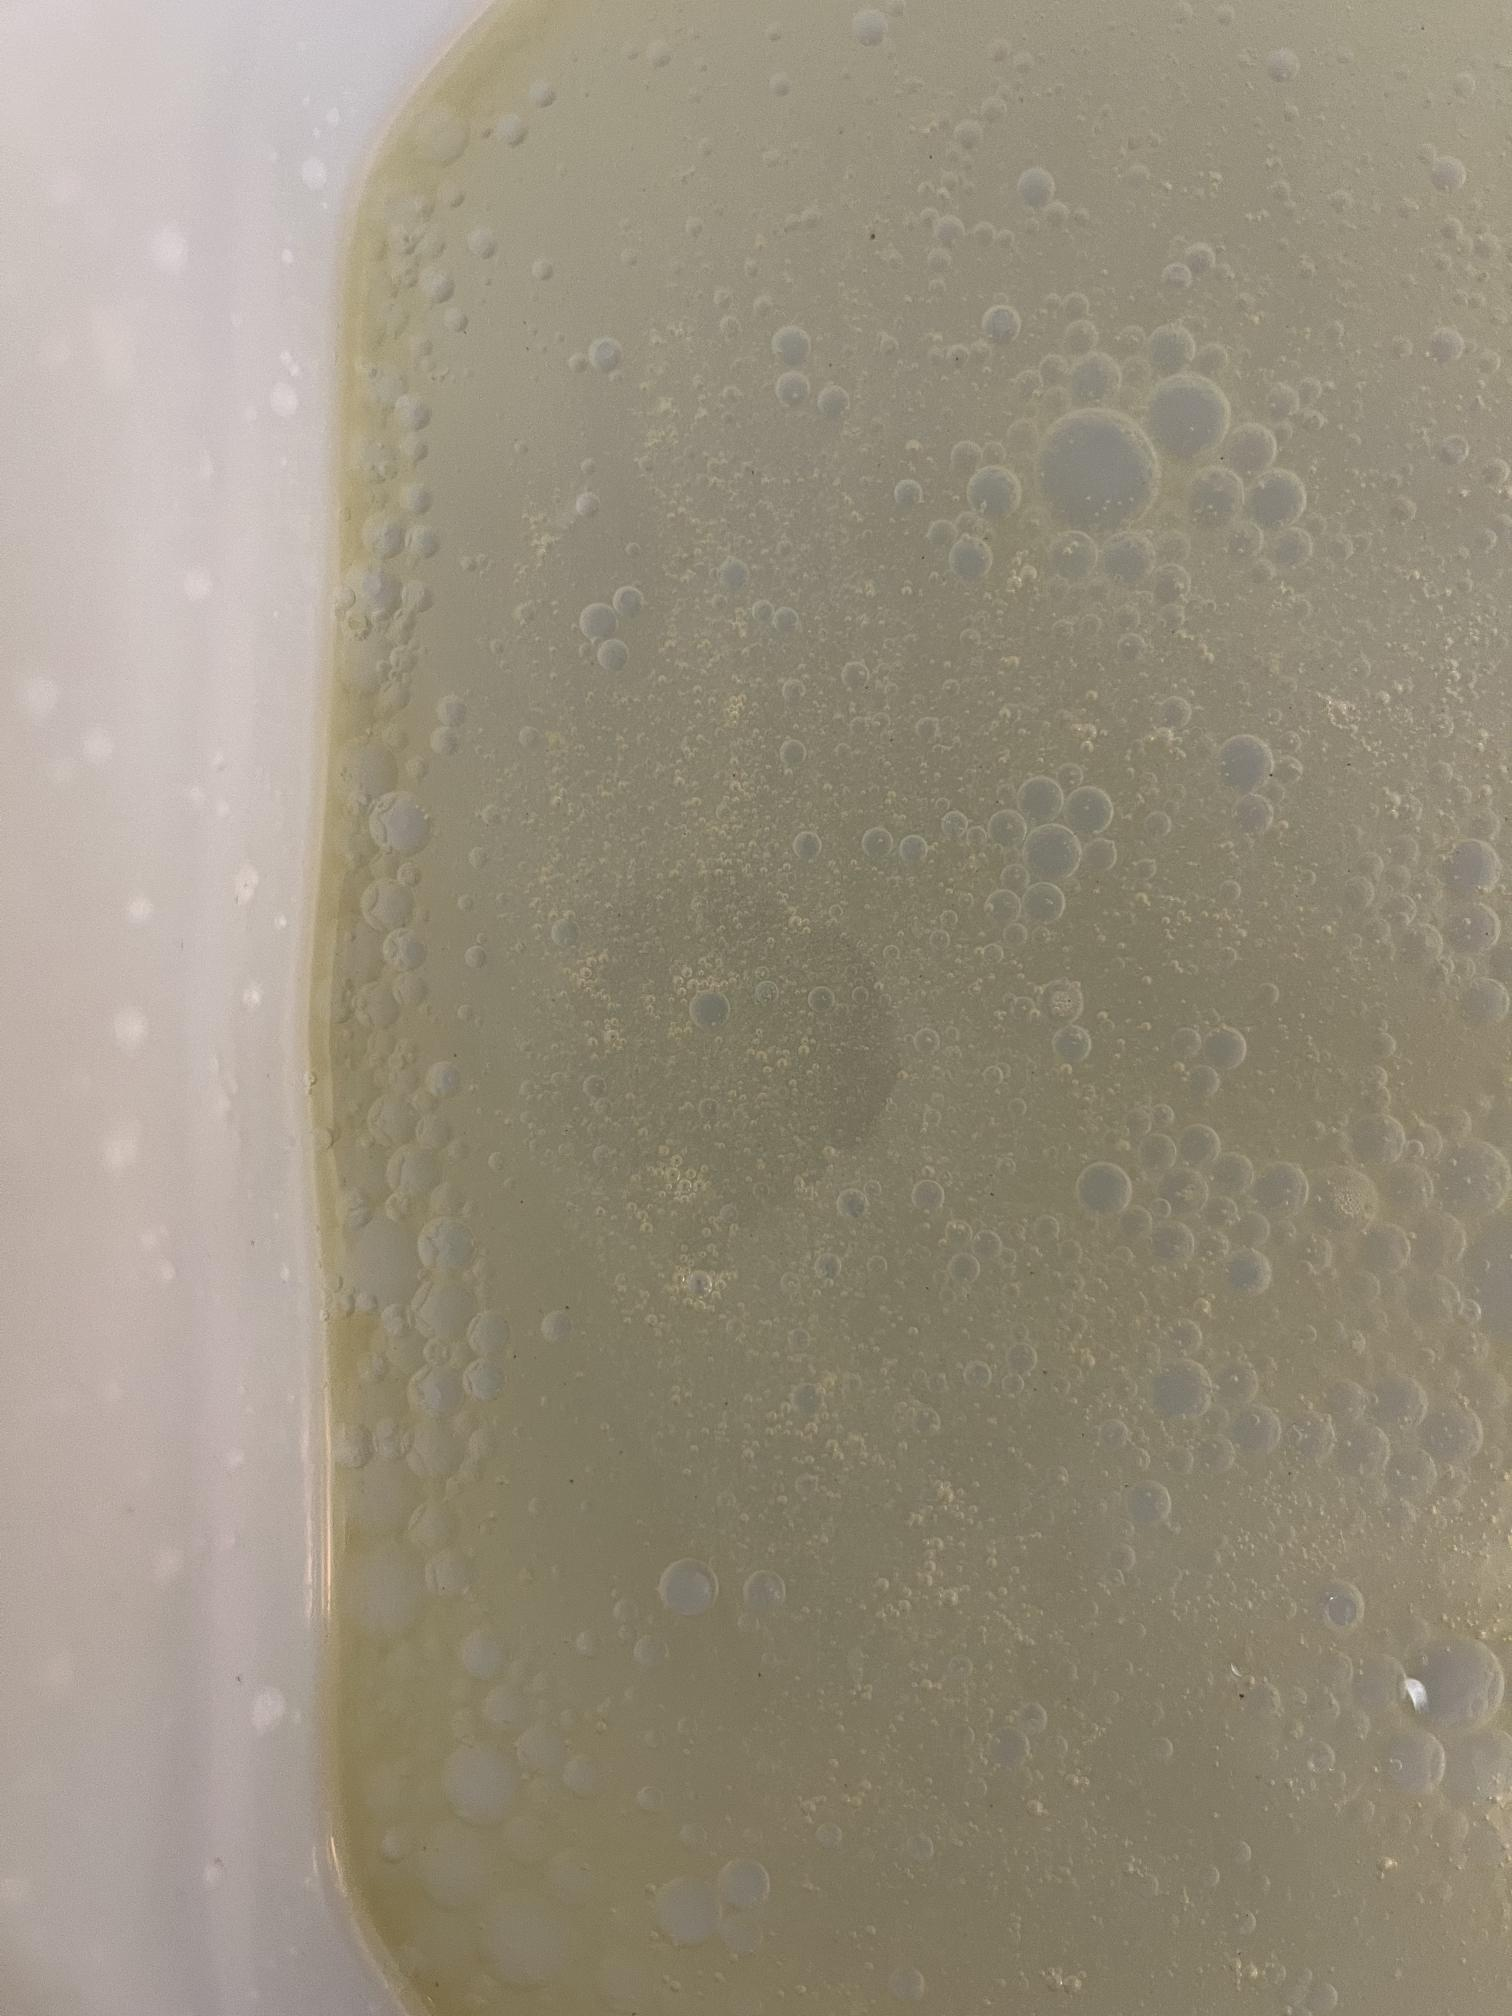Presenca de Oleo - - 170ml: (140, 86, 1450, 1891)
